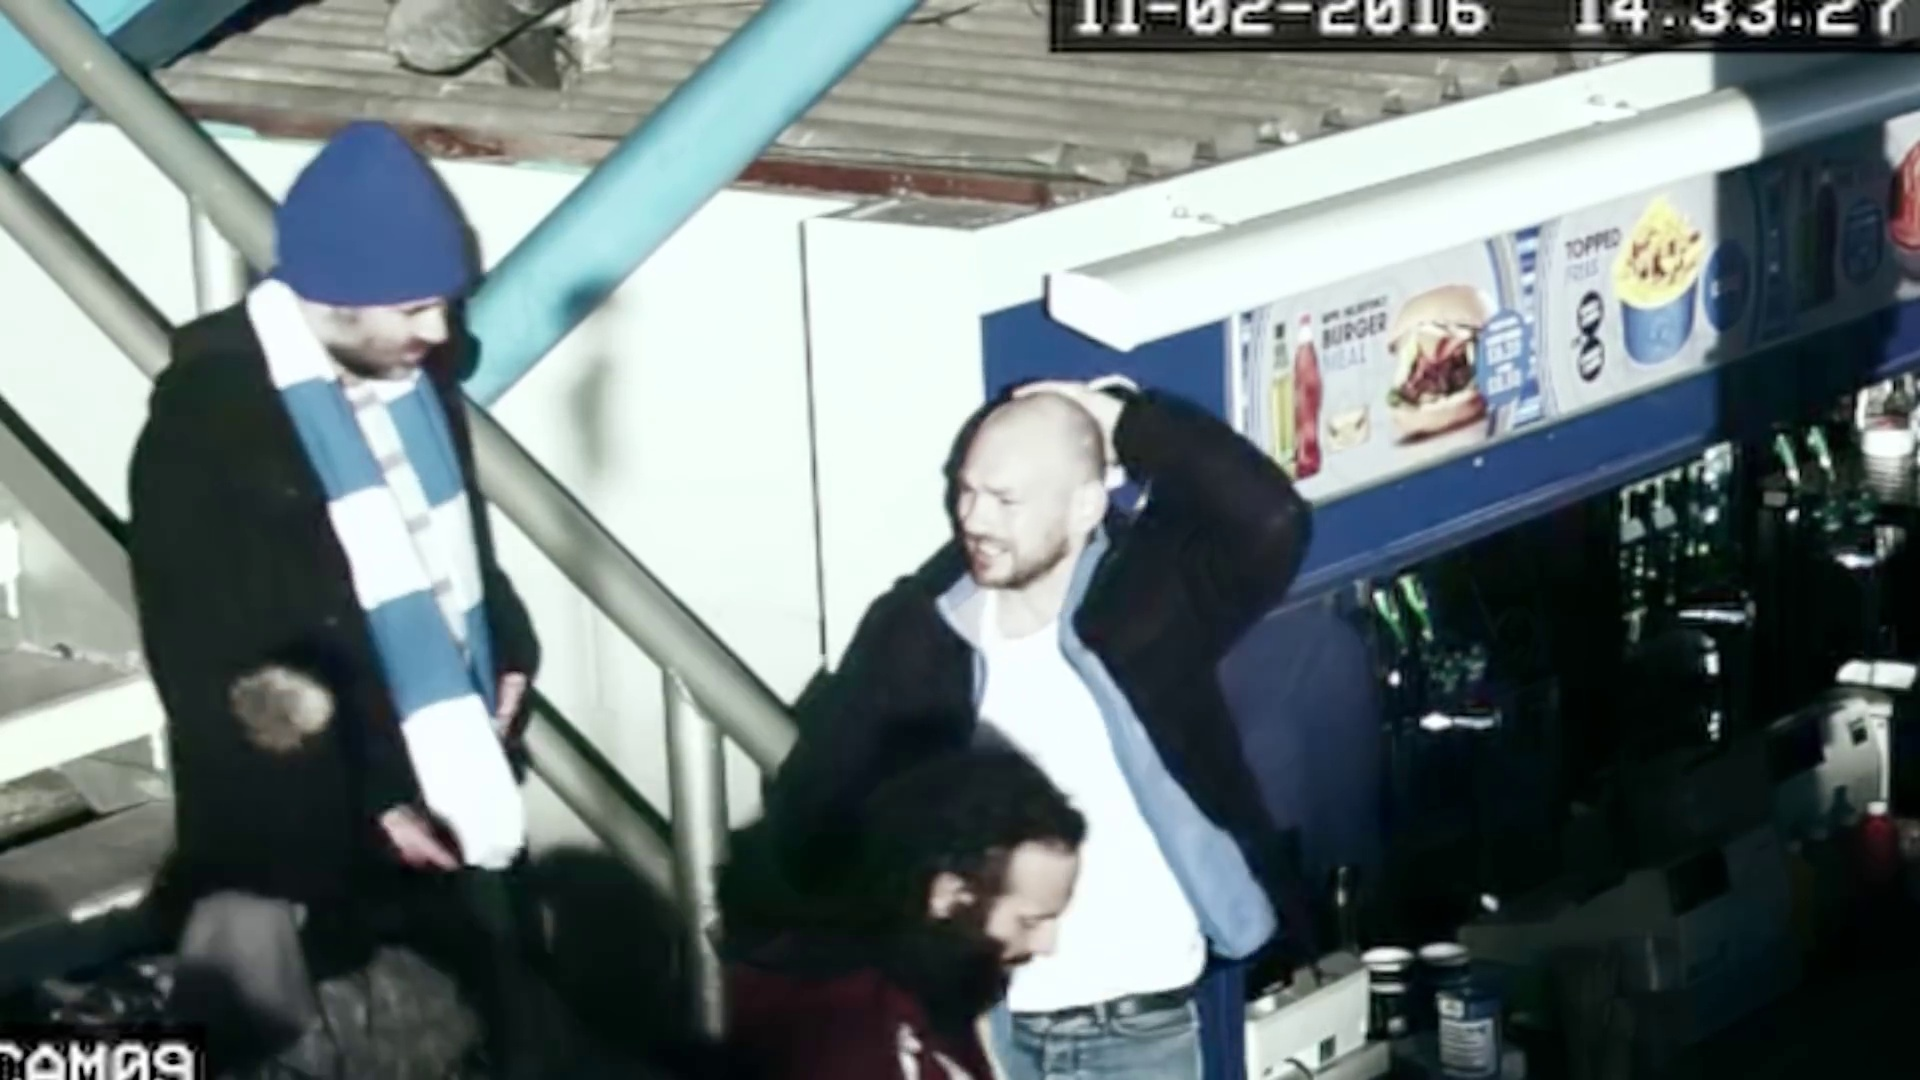face: (955, 446, 1075, 584), (968, 861, 1062, 1011), (358, 279, 456, 389)
